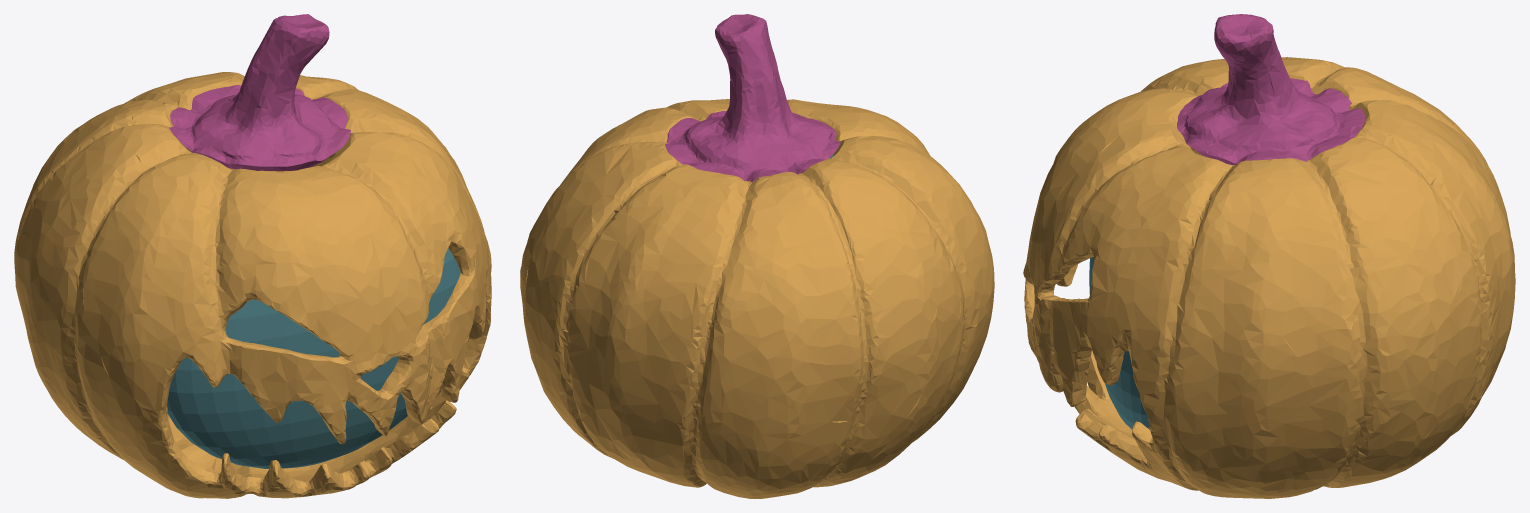
File: JackOLanternA.glb
3 views of the same model, side by side, from view 1: azimuth 30°, elevation 25°; view 2: azimuth 150°, elevation 25°; view 3: azimuth 270°, elevation 25° (orthographic). The views are drawn at different scales.
Visible parts, largest first — view 1: Mesh_Mesh_head_geo.001_lambert2SG.001; view 2: Mesh_Mesh_head_geo.001_lambert2SG.001; view 3: Mesh_Mesh_head_geo.001_lambert2SG.001.
Boxes of the visible parts, left/top/right/bottom form: Mesh_Mesh_head_geo.001_lambert2SG.001: left=14, top=14, right=491, bottom=498; Mesh_Mesh_head_geo.001_lambert2SG.001: left=520, top=14, right=994, bottom=498; Mesh_Mesh_head_geo.001_lambert2SG.001: left=1023, top=14, right=1515, bottom=498.
Size of the model in its own units: 16 by 16 by 16.01.
